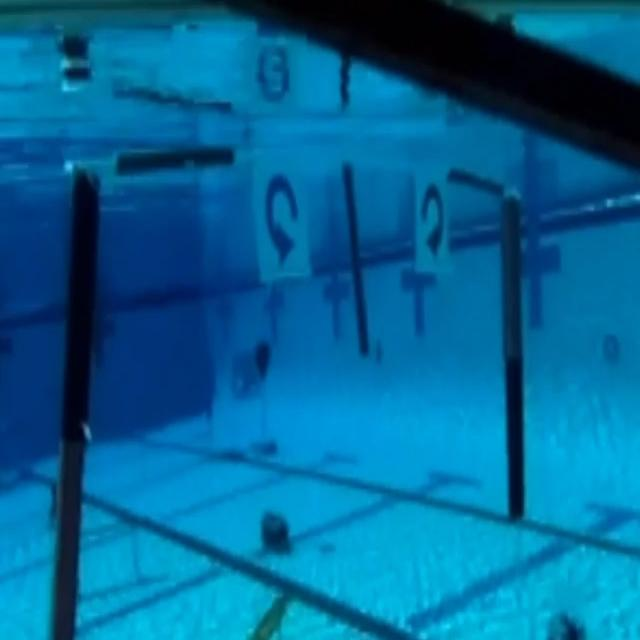Gate: (47, 141, 527, 640)
